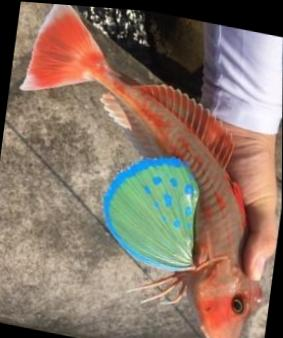fish: (20, 3, 263, 338)
